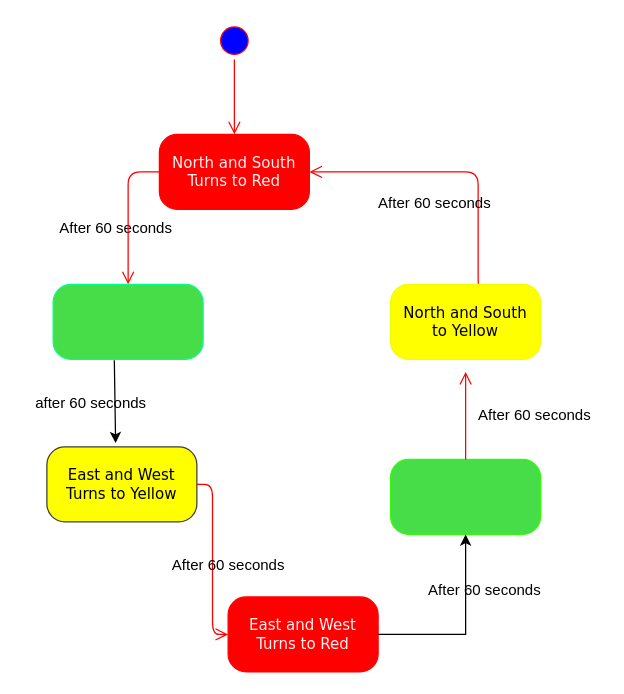
This 624x694 diagram has some shape labels left out. Each missing label, with the centre of its shape:
East and West Turns to Green: the point at 127,321
North and South Turns to Green: the point at 465,496
